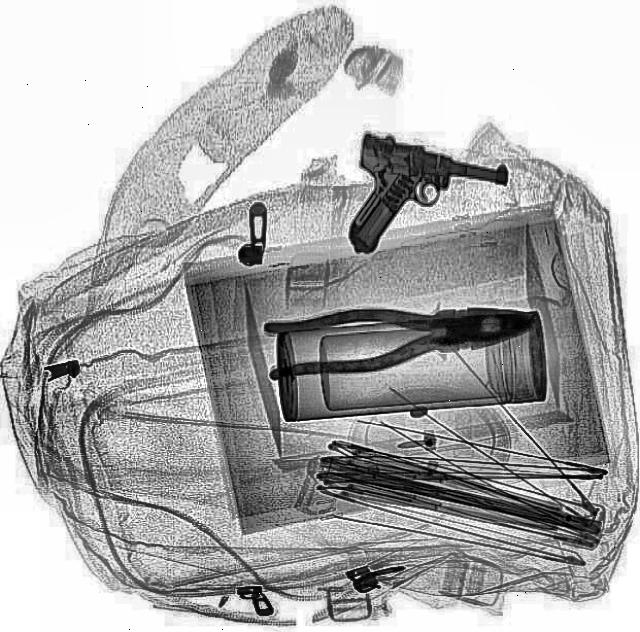Gun: (331, 128, 513, 278)
Pliers: (260, 285, 538, 383)
